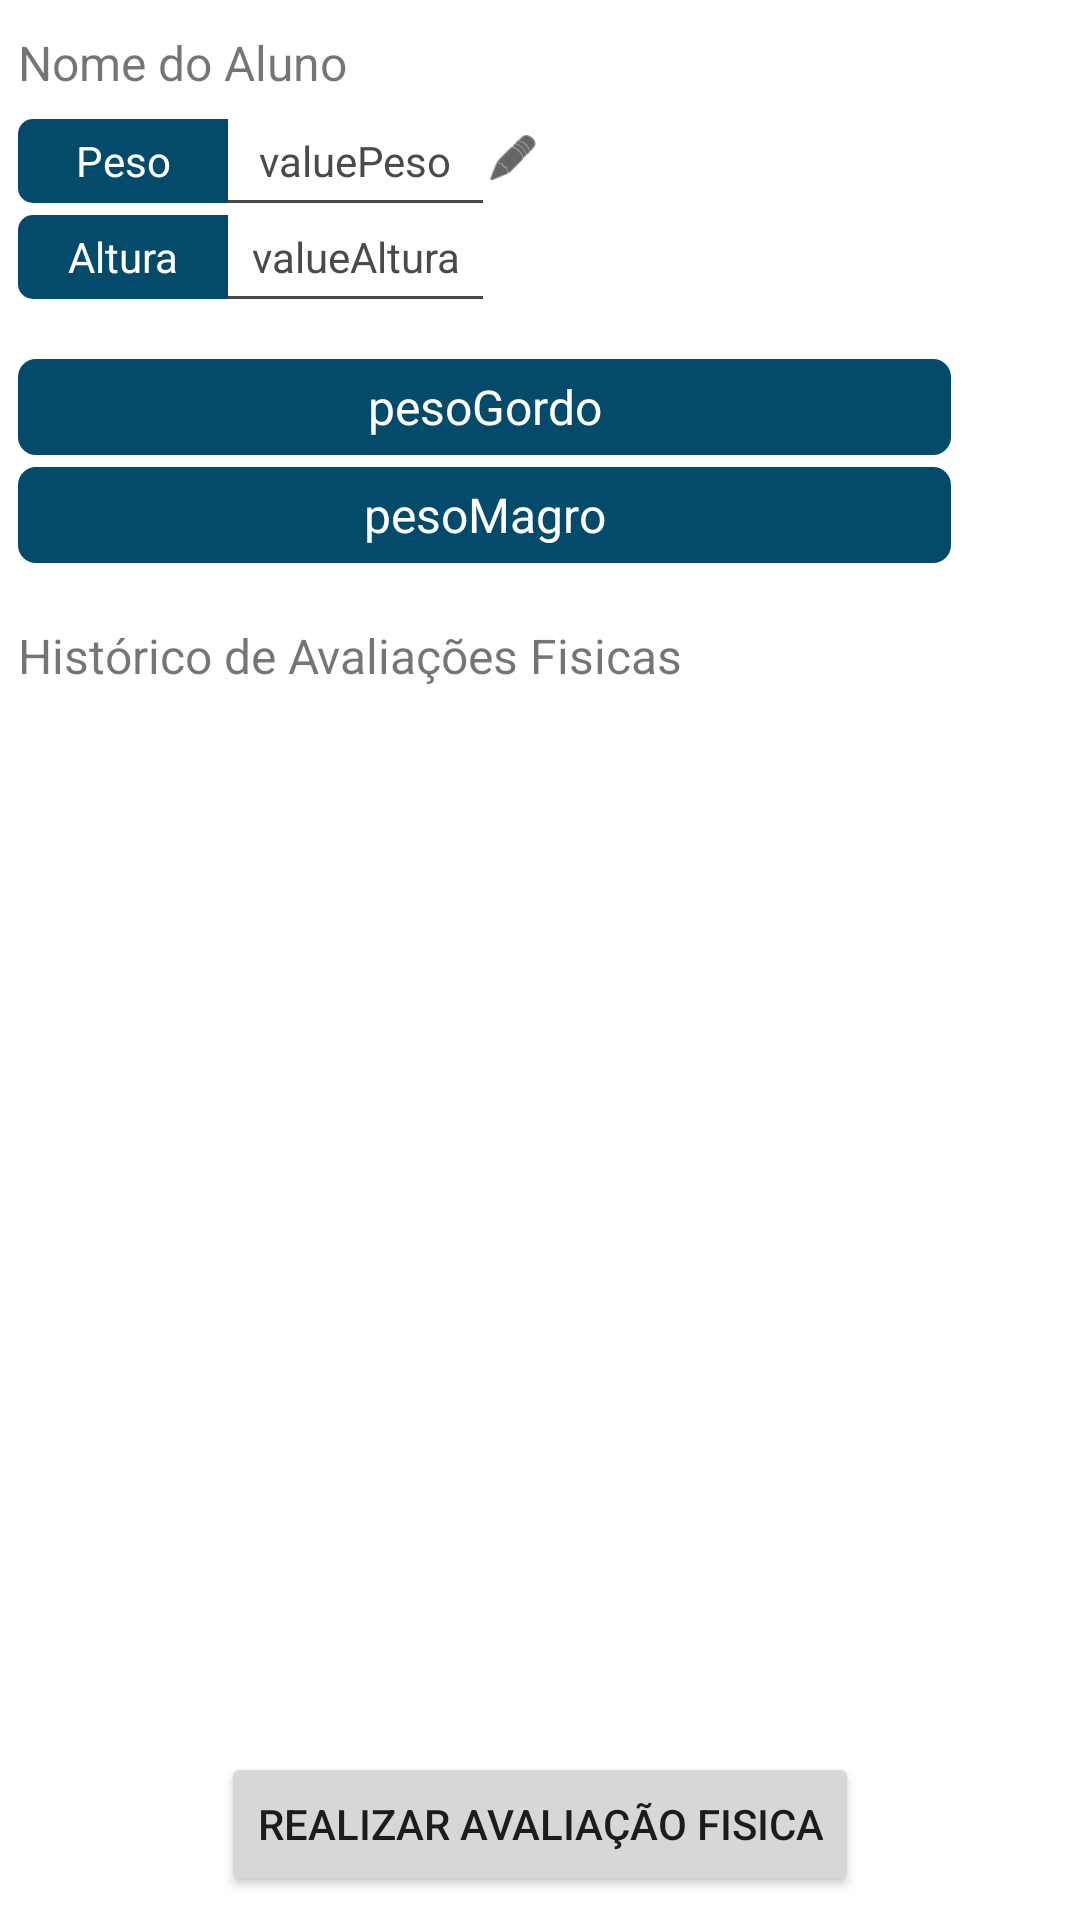

Icons on this 1080px×1920px Android screen, each with the point to tap as (x=x, y=y):
edit: (x=513, y=157)
